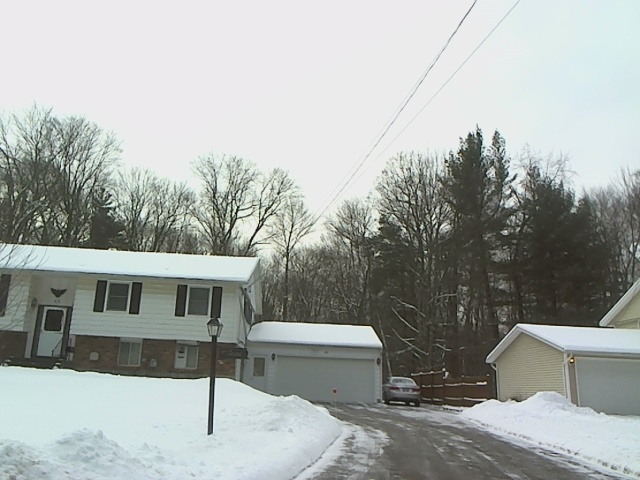Ploughed: (326, 400, 600, 479)
